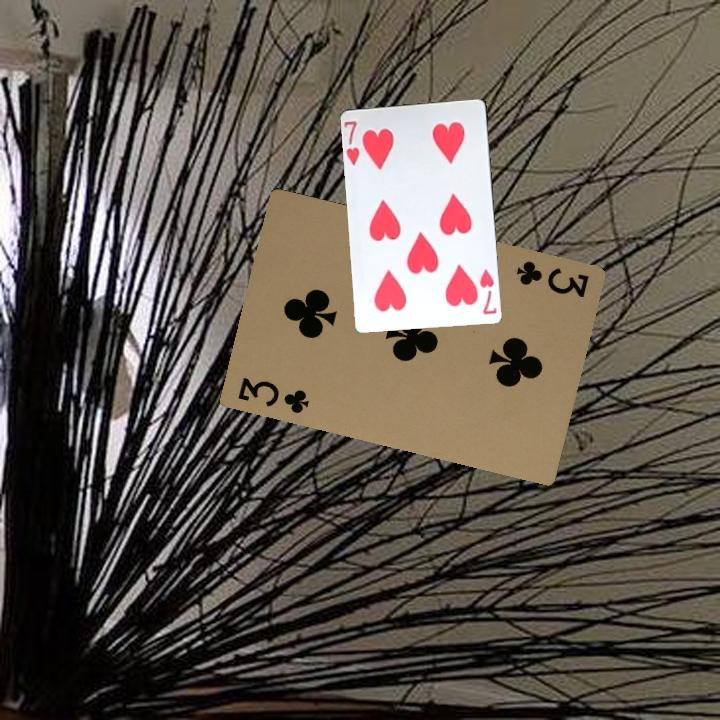3c: (512, 256, 592, 300), (234, 373, 312, 416)
7h: (475, 264, 499, 317), (342, 117, 362, 168)
